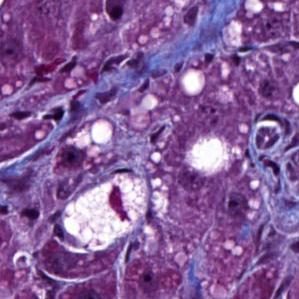ballooning: (57, 167, 154, 254)
